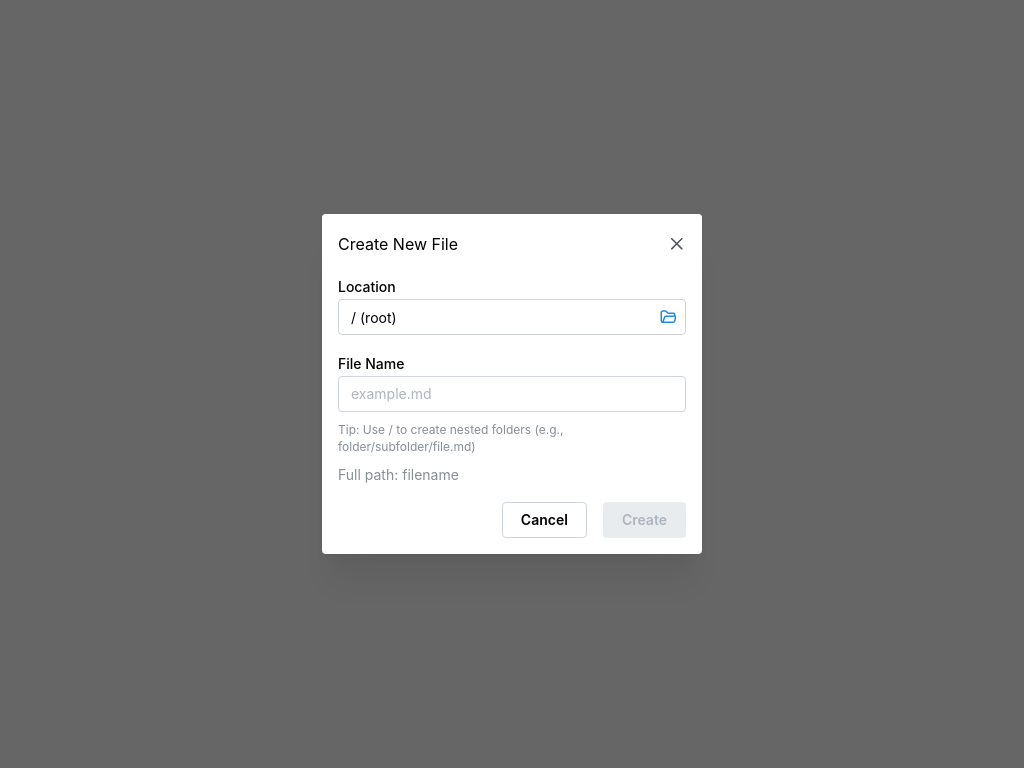
it: CreateFileModal › Form Validation › enables create button when valid input is provided
The image size is (1024, 768).
Step 1. Type "test.md" into the field with test id "file-name-input" → (512, 394), box x1=338 y1=376 x2=686 y2=412
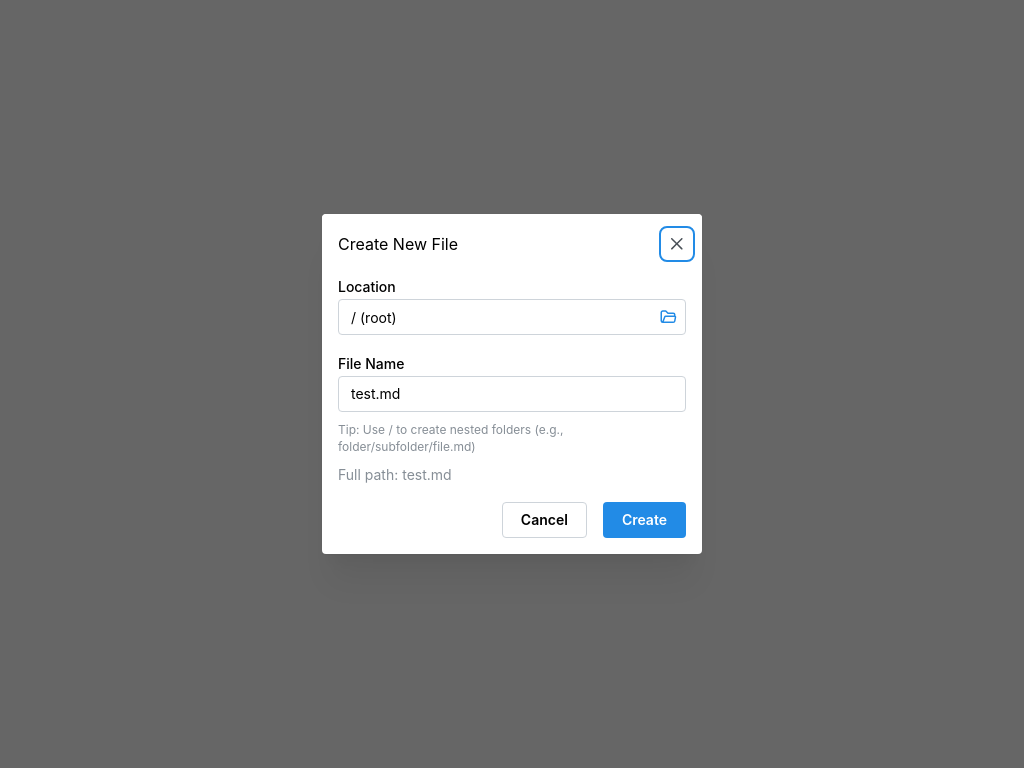
Result: the button with test id "confirm-create-file-button" is enabled at x1=603 y1=502 x2=686 y2=538
